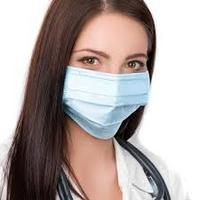flu mask: (65, 65, 151, 149)
